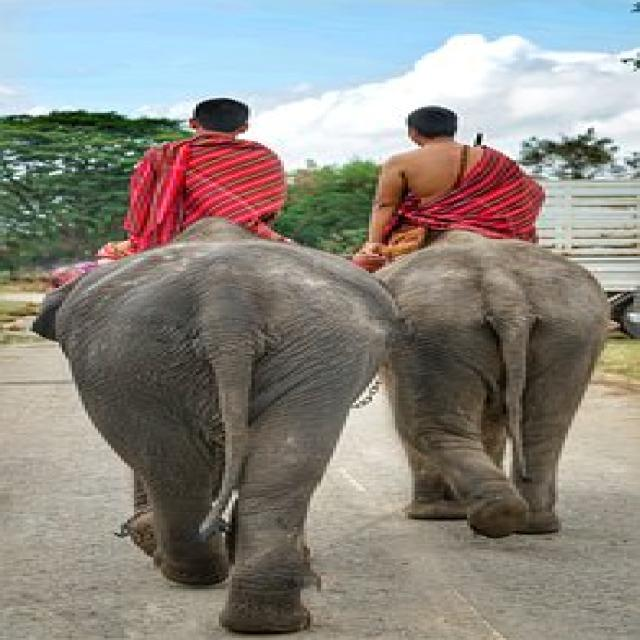Elephant: (27, 199, 374, 640), (348, 224, 640, 565)
